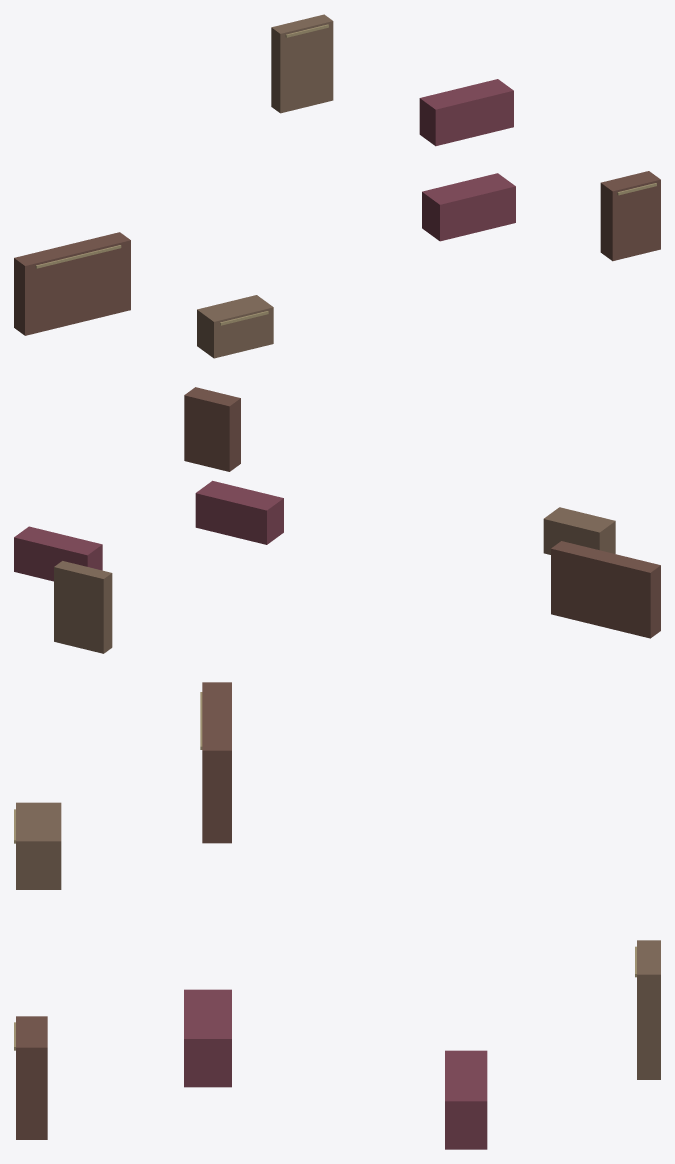
Rendered from furnishings_floor_01.glb.
3 renders of one model, top to bottom at view 1: azimuth 30°, elevation 25°; view 2: azimuth 150°, elevation 25°; view 3: azimuth 270°, elevation 25°, orthographic. The views are drawn at different scales.
Parts seen in each view (by area): view 1: fe-f1-room3_bookcase, fe-f1-room2_portrait_stand, fe-f1-room4_velvet_settee, fe-f1-room2_velvet_bench, fe-f1-room4_gilded_cabinet, fe-f1-room3_reading_desk; view 2: fe-f1-room3_bookcase, fe-f1-room2_portrait_stand, fe-f1-room4_velvet_settee, fe-f1-room4_gilded_cabinet, fe-f1-room2_velvet_bench, fe-f1-room3_reading_desk; view 3: fe-f1-room3_bookcase, fe-f1-room4_velvet_settee, fe-f1-room2_velvet_bench, fe-f1-room3_reading_desk, fe-f1-room4_gilded_cabinet, fe-f1-room2_portrait_stand.
Part boxes in pixels (x1=…): fe-f1-room3_bookcase: x1=14, y1=232, x2=130, y2=335; fe-f1-room2_portrait_stand: x1=271, y1=14, x2=333, y2=113; fe-f1-room4_velvet_settee: x1=422, y1=173, x2=515, y2=241; fe-f1-room2_velvet_bench: x1=419, y1=79, x2=513, y2=146; fe-f1-room4_gilded_cabinet: x1=600, y1=171, x2=660, y2=261; fe-f1-room3_reading_desk: x1=197, y1=295, x2=273, y2=358; fe-f1-room3_bookcase: x1=551, y1=541, x2=660, y2=638; fe-f1-room2_portrait_stand: x1=54, y1=561, x2=112, y2=653; fe-f1-room4_velvet_settee: x1=195, y1=480, x2=283, y2=544; fe-f1-room4_gilded_cabinet: x1=184, y1=387, x2=240, y2=471; fe-f1-room2_velvet_bench: x1=14, y1=526, x2=102, y2=581; fe-f1-room3_reading_desk: x1=543, y1=507, x2=615, y2=554; fe-f1-room3_bookcase: x1=202, y1=682, x2=231, y2=843; fe-f1-room4_velvet_settee: x1=184, y1=989, x2=231, y2=1087; fe-f1-room2_velvet_bench: x1=445, y1=1050, x2=487, y2=1149; fe-f1-room3_reading_desk: x1=16, y1=802, x2=61, y2=889; fe-f1-room4_gilded_cabinet: x1=16, y1=1016, x2=47, y2=1139; fe-f1-room2_portrait_stand: x1=637, y1=940, x2=660, y2=1079.
Size of the model in its own units: 12.61 by 1.65 by 9.19.
